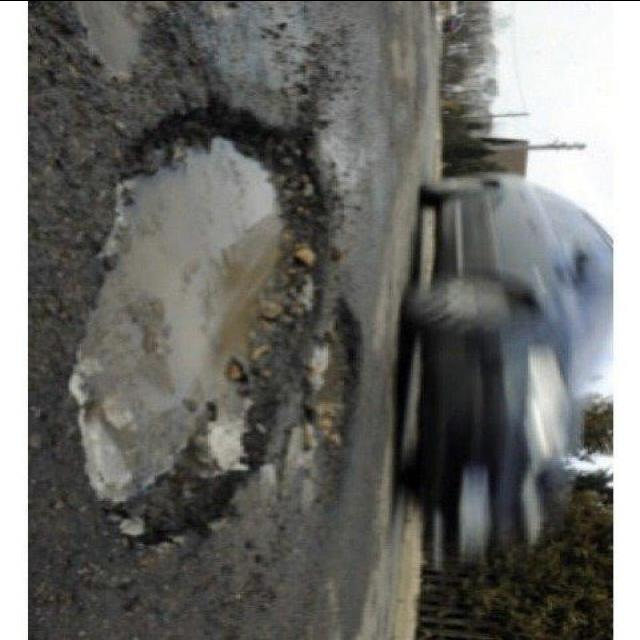lubang: (39, 99, 338, 603), (287, 290, 393, 504), (29, 1, 262, 91)
